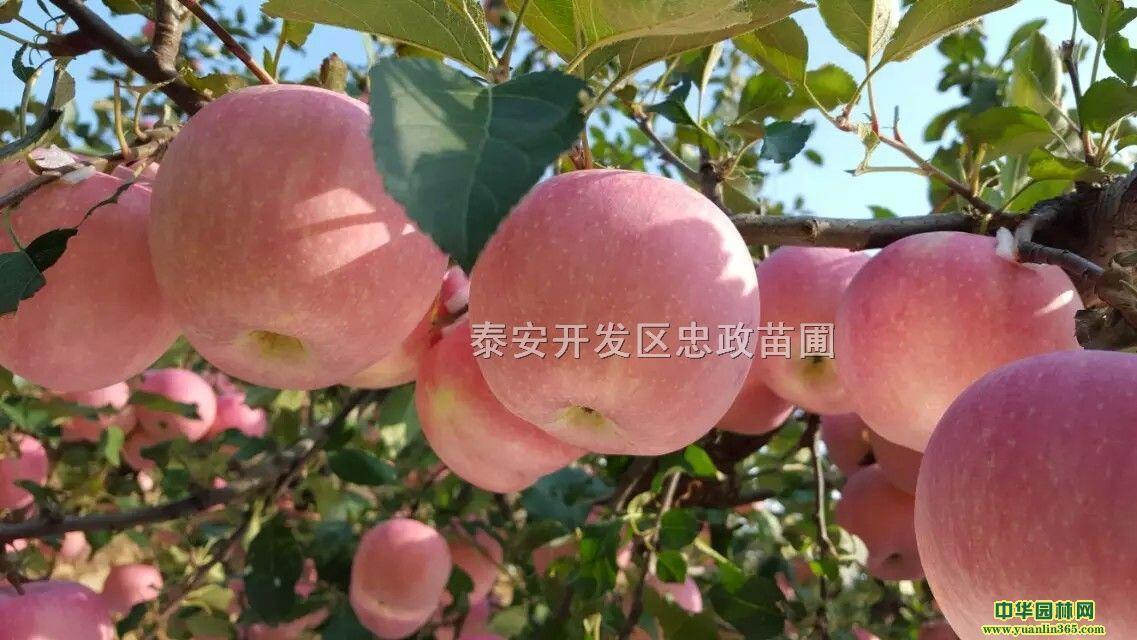apple: (149, 83, 449, 388), (467, 167, 762, 456), (913, 349, 1137, 637), (835, 226, 1090, 453), (2, 144, 182, 402), (414, 308, 589, 493), (752, 237, 864, 420), (346, 514, 455, 637), (833, 464, 924, 593), (1, 575, 121, 640), (133, 370, 217, 444)
